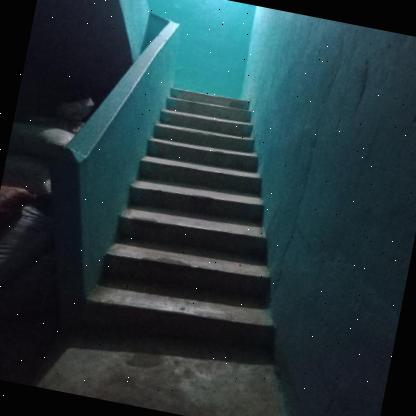stair: (78, 68, 310, 380)
